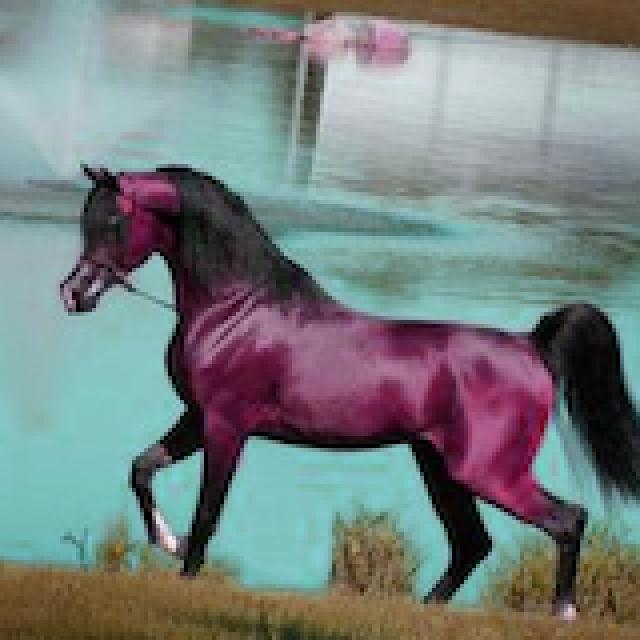Horse: (52, 152, 640, 616)
